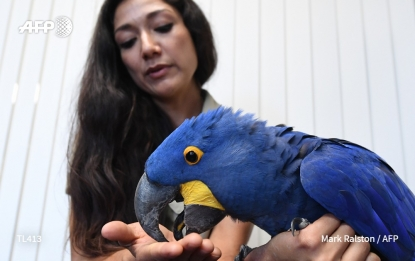guacamaya: (135, 108, 415, 248)
